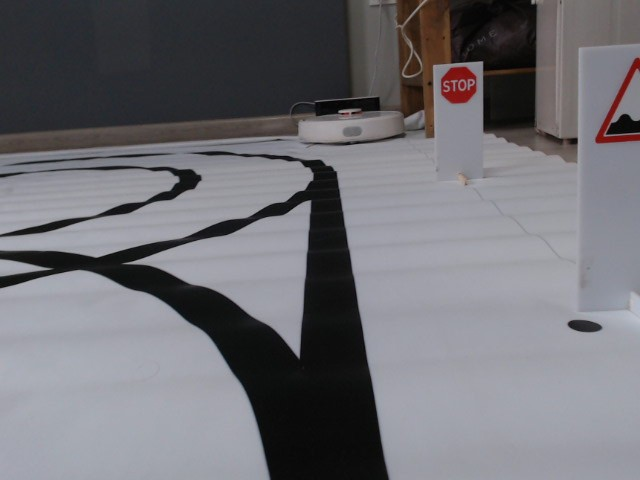Stop: (439, 65, 477, 105)
